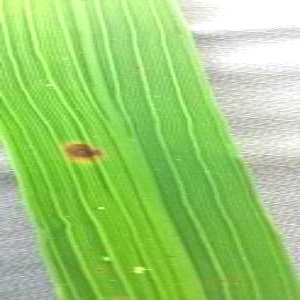Bacterial_Leaf_Blight: (57, 134, 109, 169)
